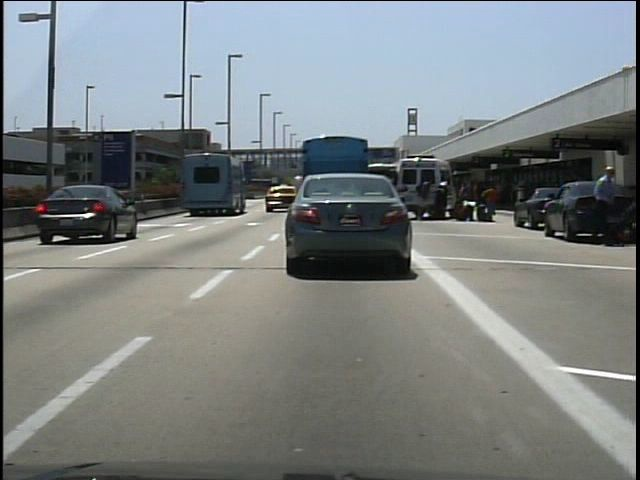person: (589, 158, 623, 244), (431, 176, 452, 223), (459, 177, 479, 221), (414, 174, 433, 219), (481, 181, 500, 225)
